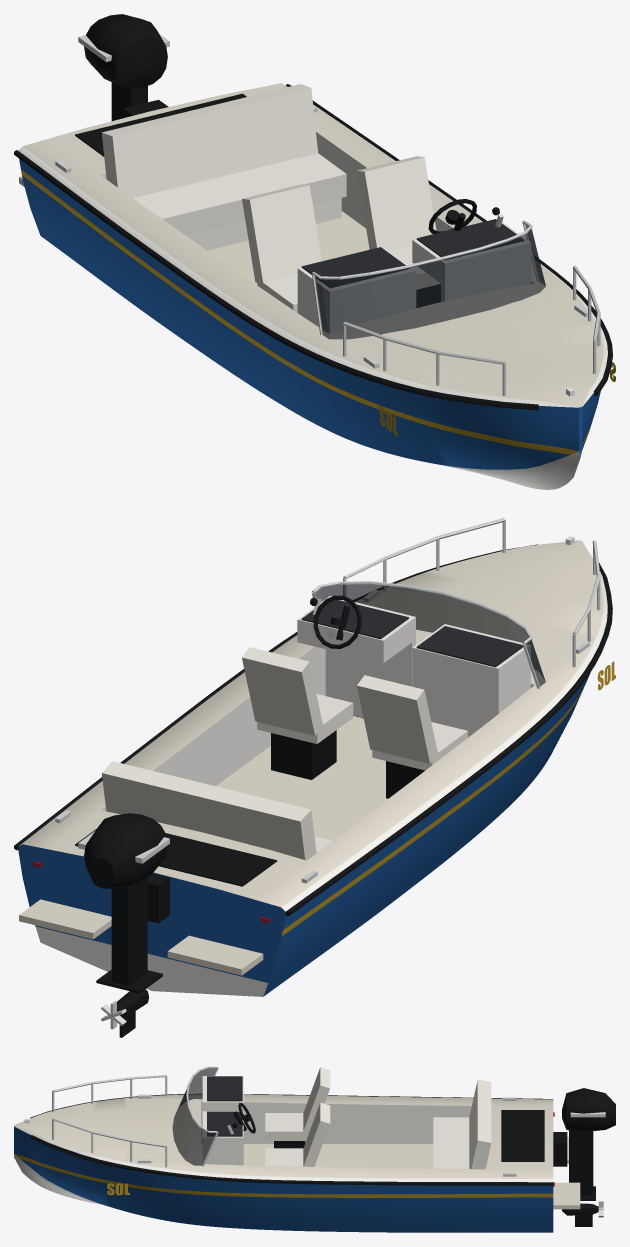
Rendered from car_boat.glb.
3 views of the same model, one above another, from view 1: azimuth 30°, elevation 25°; view 2: azimuth 150°, elevation 25°; view 3: azimuth 270°, elevation 25° (orthographic). The views are drawn at different scales.
Parts seen in each view (by area): view 1: Body; view 2: Body; view 3: Body.
Part boxes in pixels (x1,y1,x2,y2): Body: (14, 14, 615, 489); Body: (14, 518, 615, 1037); Body: (14, 1066, 615, 1232).
Size of the model in its own units: 2.37 by 1.77 by 6.92.
